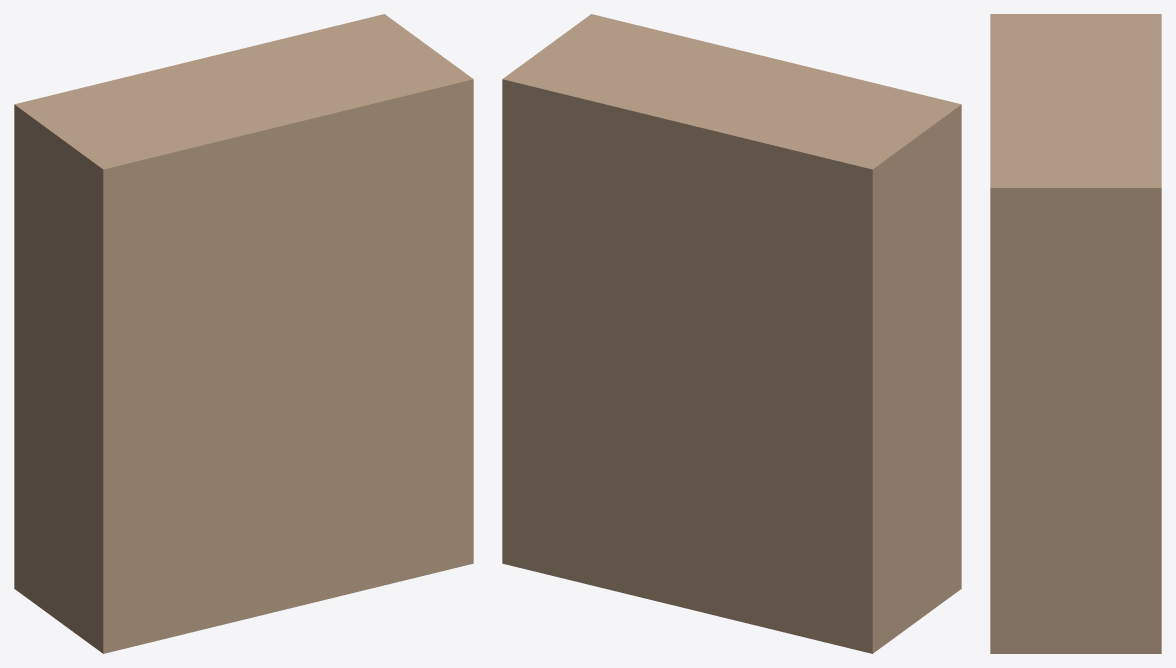
Rendered from goatee.glb.
3 renders of one model, left to right at view 1: azimuth 30°, elevation 25°; view 2: azimuth 150°, elevation 25°; view 3: azimuth 270°, elevation 25°, orthographic. The views are drawn at different scales.
Parts seen in each view (by area): view 1: Goatee; view 2: Goatee; view 3: Goatee.
Boxes of the visible parts, x1=… form: Goatee: x1=14, y1=14, x2=473, y2=653; Goatee: x1=502, y1=14, x2=961, y2=653; Goatee: x1=990, y1=14, x2=1161, y2=653.
Size of the model in its own units: 0.12 by 0.15 by 0.05.
